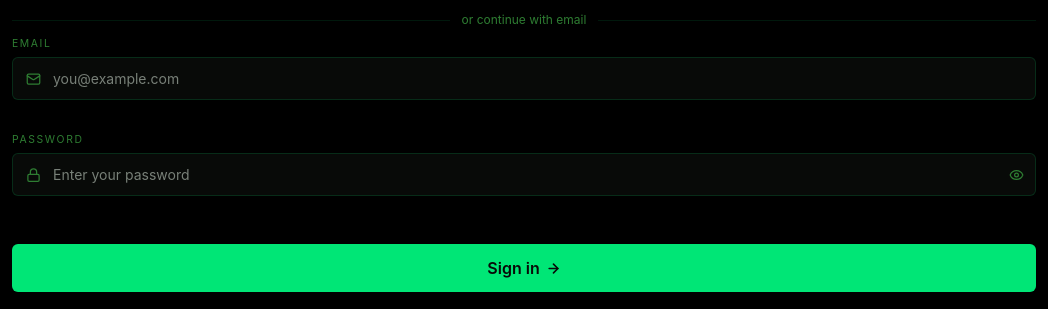
Scenario: AuthForm › validation errors › should display a validation error for an invalid email after submit
In the field with placeholder "you@example.com": {"x": 524, "y": 79} x1=12 y1=57 x2=1036 y2=100, type "not-an-email"
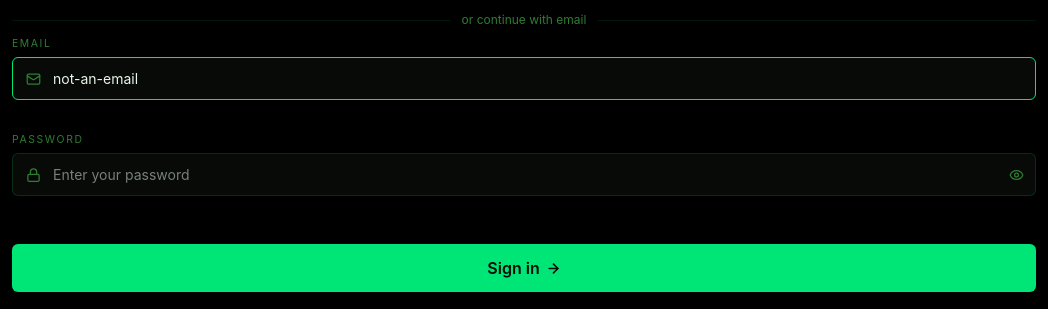
In the password field with placeholder "Enter your password": {"x": 524, "y": 175} x1=12 y1=153 x2=1036 y2=196, type "123456"
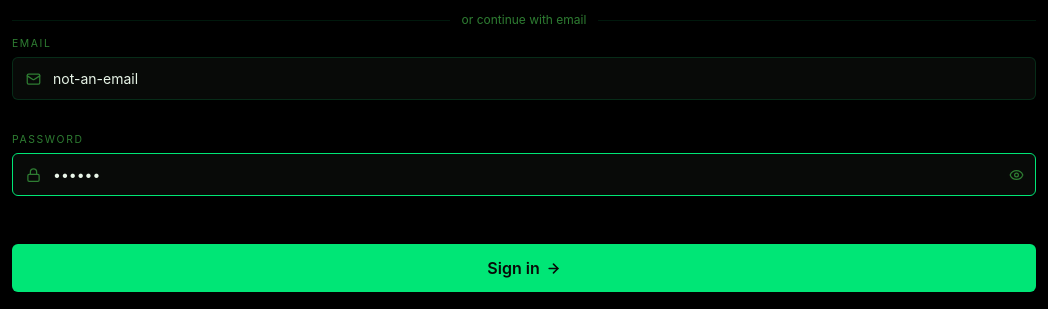
Click the button "Sign in": {"x": 524, "y": 268} x1=12 y1=244 x2=1036 y2=292
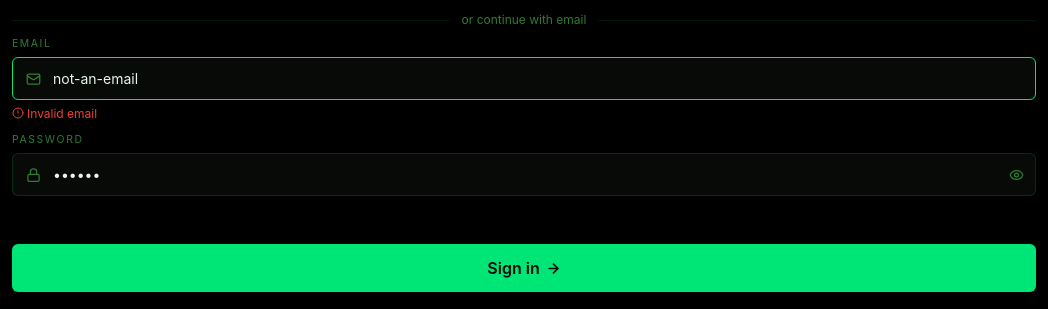
Check: the text "Invalid email" is shown, box x1=12 y1=106 x2=97 y2=121
